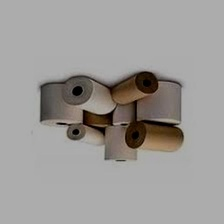tissue: (57, 73, 122, 119), (133, 76, 186, 129), (35, 78, 86, 131), (122, 117, 189, 156), (107, 68, 162, 109), (99, 121, 142, 165), (63, 120, 110, 150), (108, 96, 139, 129)
